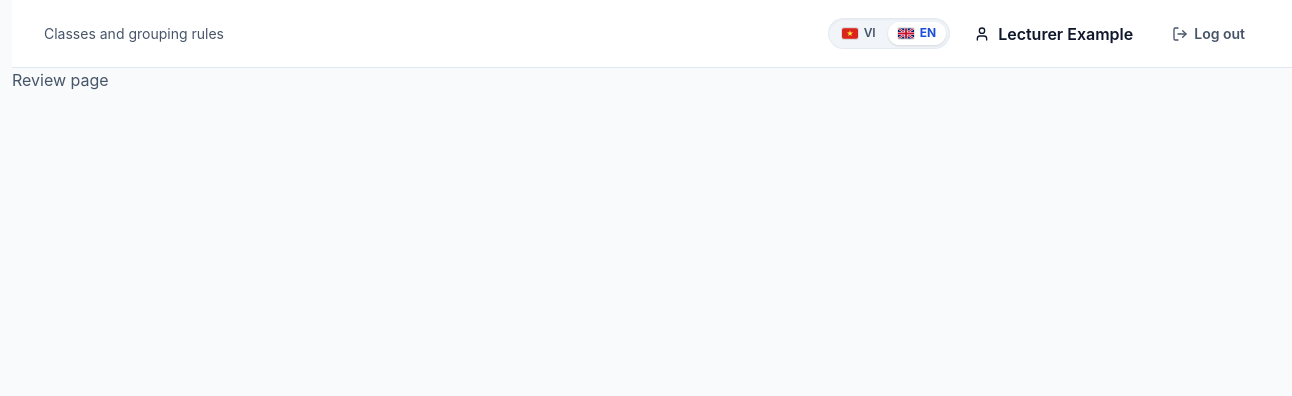
Test case: Lecturer Profile › opens the profile when ROLE_LECTURE clicks their name in the top bar
Check: the text "Review page" is shown, box [12,70,109,90]
Click the button with aria-label "View my profile" at (1054, 34), box [966,14,1141,54]
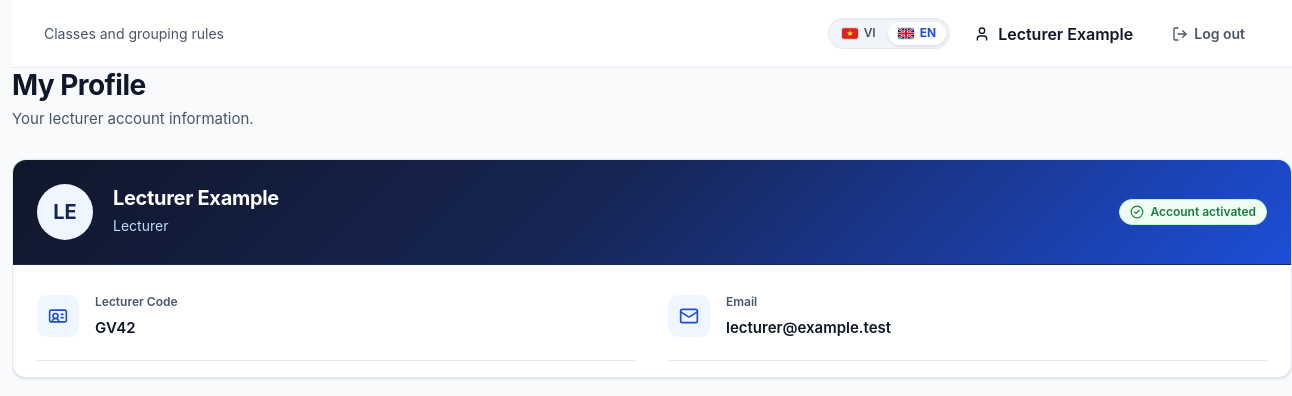
Check: the heading "My Profile" is shown, box [12,68,146,102]
